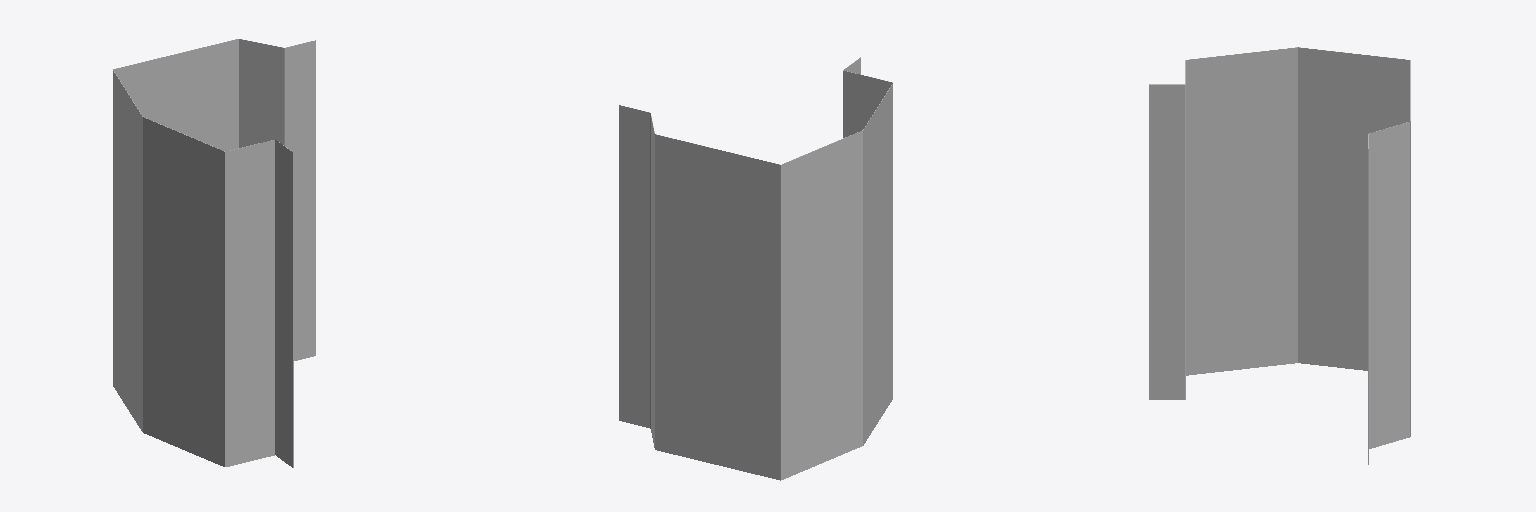
Rendered from Rake Trim.obj.
The picture shows the model from 3 angles: view 1: azimuth 30°, elevation 25°; view 2: azimuth 150°, elevation 25°; view 3: azimuth 270°, elevation 25°; orthographic projection.
Parts seen in each view (by area): view 1: Raketrim; view 2: Raketrim; view 3: Raketrim.
Part boxes in pixels (x1,y1,x2,y2): Raketrim: (113,39,315,467); Raketrim: (619,57,892,480); Raketrim: (1149,47,1410,464).
Size of the model in its own units: 1.05 by 1.52 by 1.14.